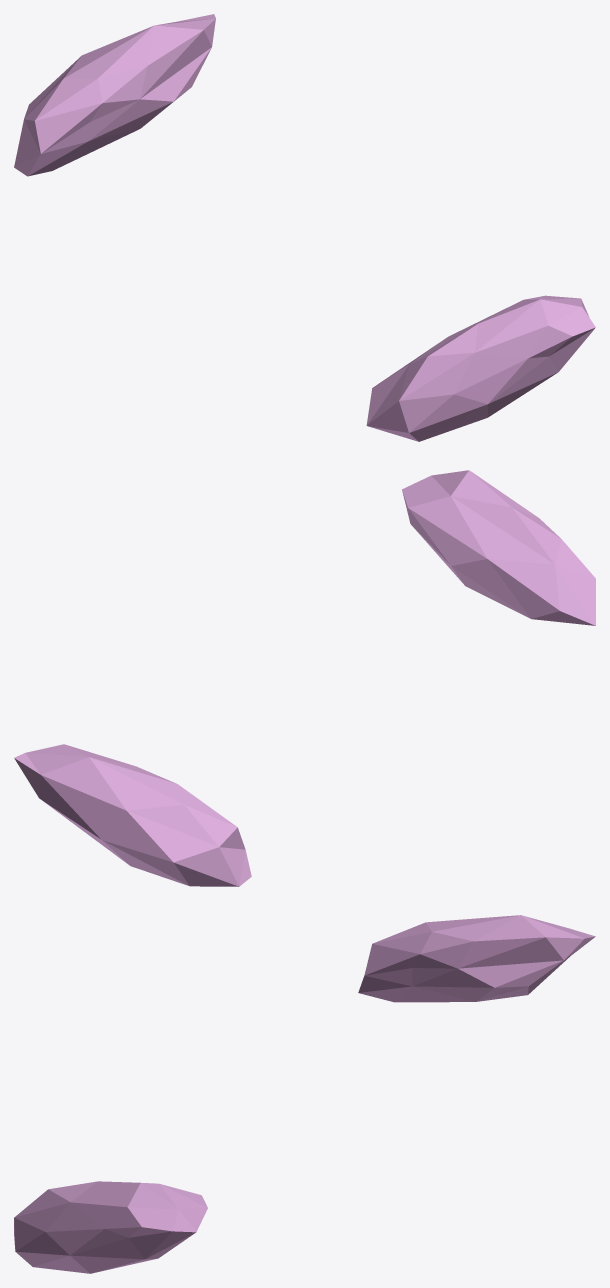
3 renders of one model, top to bottom at view 1: azimuth 30°, elevation 25°; view 2: azimuth 150°, elevation 25°; view 3: azimuth 330°, elevation 25°, orthographic. The views are drawn at different scales.
Visible parts, largest first — view 1: 606826663.obj; view 2: 606826663.obj; view 3: 606826663.obj.
Boxes of the visible parts, x1,y1,x2,y2 form: 606826663.obj: (14,14,595,441); 606826663.obj: (14,470,595,886); 606826663.obj: (14,915,595,1273).
Bounding box in the file's own units: 249 × 128 × 831.
